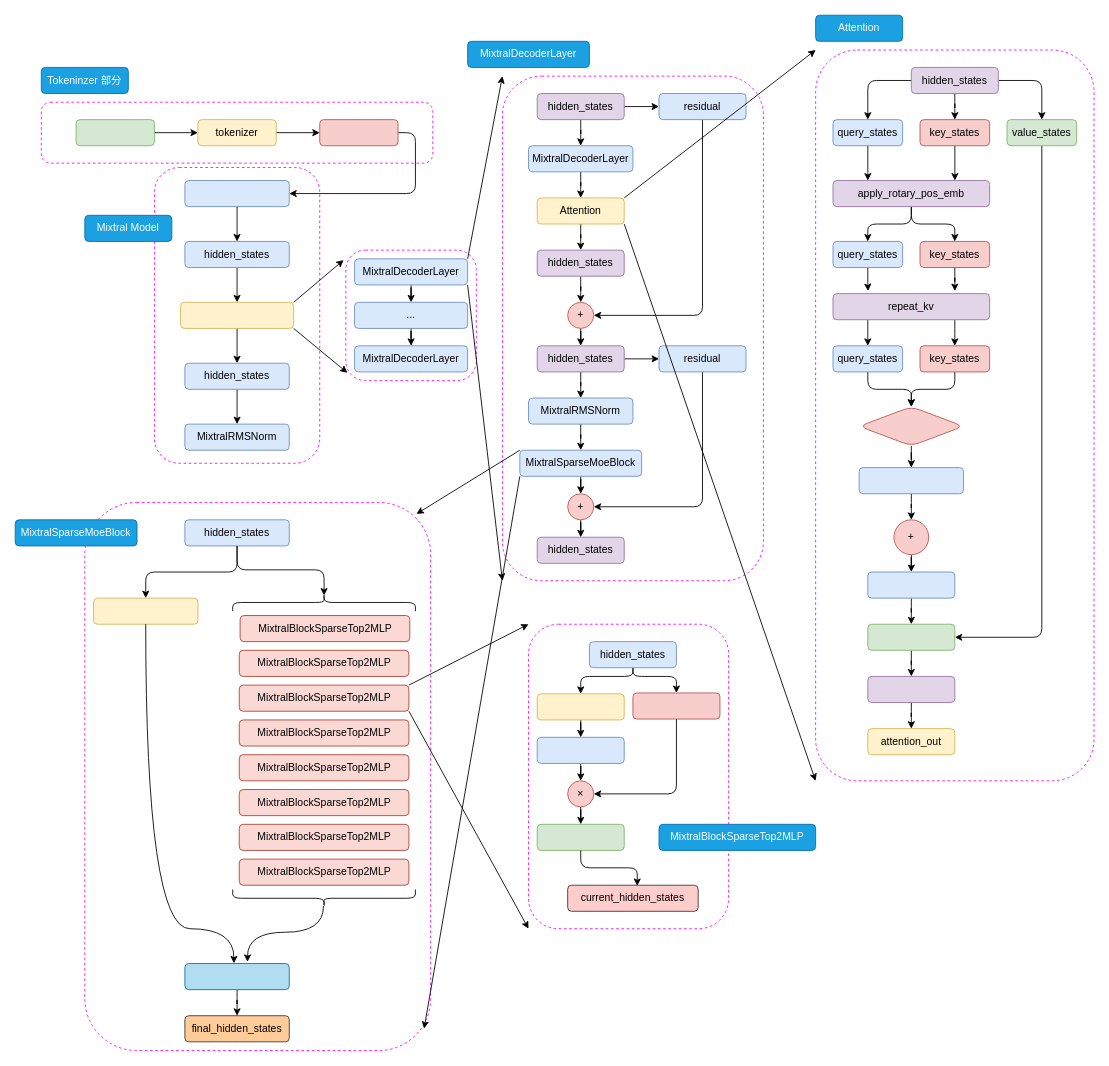
The diagram is 1109 pixels wide and 1066 high, and some of its shapes have lost their labels. The shapes that lost their labels are listed below. From the top down, each one's centre as x and y in pixels, then its label:
point (114, 132): Text
point (358, 132): input_ids
point (236, 193): Embedding
point (237, 314): MixtralDecoderLayers
point (911, 426): 一些计算
point (911, 480): attention_weight
point (911, 584): soft_max
point (145, 610): router_logits
point (911, 636): matmul
point (580, 706): w1
point (676, 705): w3
point (911, 689): o_proj
point (580, 749): act_fn
point (580, 836): w2
point (236, 976): concat
